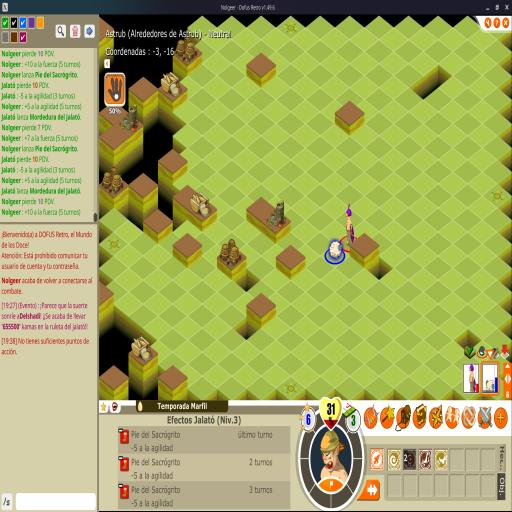Enemigos: (329, 240, 343, 260)
Personaje: (345, 203, 355, 245)
